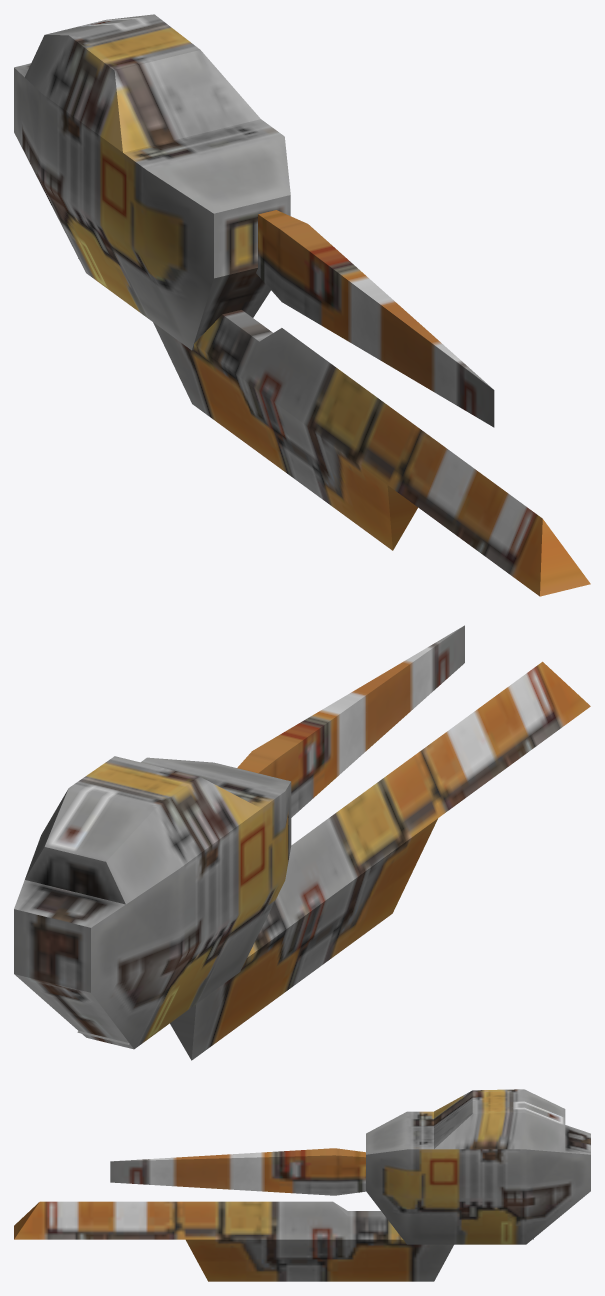
The model's file is sensor_hgn_s_02_t1.glb.
3 views of the same model, one above another, from view 1: azimuth 30°, elevation 25°; view 2: azimuth 150°, elevation 25°; view 3: azimuth 270°, elevation 25° (orthographic). The views are drawn at different scales.
Parts seen in each view (by area): view 1: sensor_s_02_LOD0; view 2: sensor_s_02_LOD0; view 3: sensor_s_02_LOD0.
Part boxes in pixels (left/top/right/bottom): sensor_s_02_LOD0: left=14, top=14, right=590, bottom=596; sensor_s_02_LOD0: left=14, top=625, right=590, bottom=1060; sensor_s_02_LOD0: left=14, top=1089, right=590, bottom=1281.
Size of the model in its own units: 0.2524 by 0.5603 by 1.62.
Materials: 1 (1 with a texture image).
